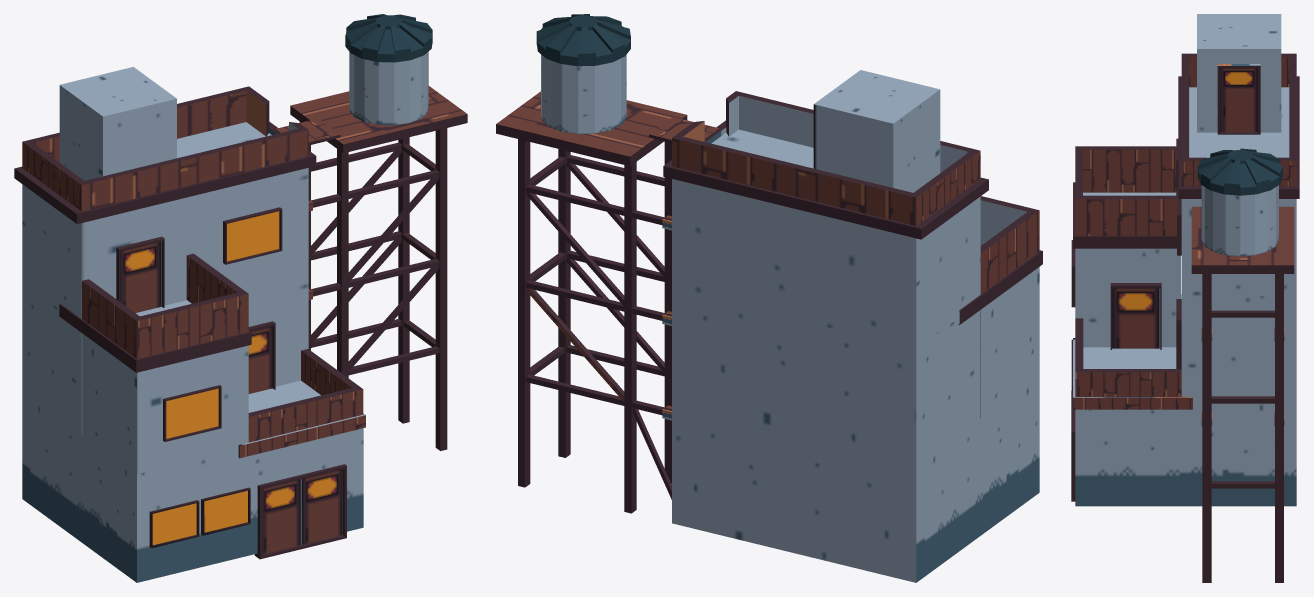
Rendered from Predio.v1.Anibal.2508.fbx.
3 renders of one model, left to right at view 1: azimuth 30°, elevation 25°; view 2: azimuth 150°, elevation 25°; view 3: azimuth 270°, elevation 25°, orthographic. The views are drawn at different scales.
Visible parts, largest first — view 1: Predio; view 2: Predio; view 3: Predio.
Boxes of the visible parts, x1=… form: Predio: x1=14, y1=14, x2=467, y2=582; Predio: x1=496, y1=14, x2=1042, y2=582; Predio: x1=1071, y1=14, x2=1299, y2=582.
Size of the model in its own units: 1148 by 592 by 1173.
